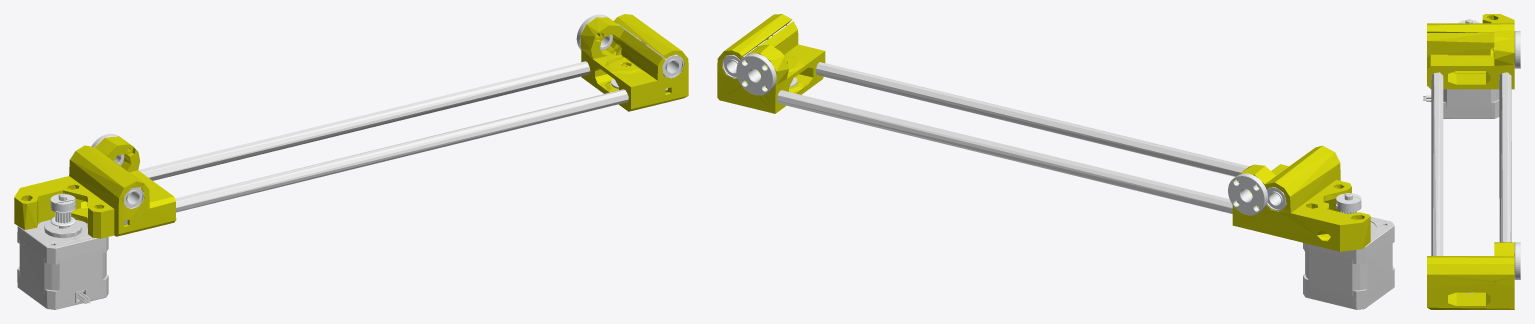
The model's file is prusamk3-z.dae.
The picture shows the model from 3 angles, left to right: view 1: azimuth 30°, elevation 25°; view 2: azimuth 150°, elevation 25°; view 3: azimuth 270°, elevation 25°; orthographic projection. The views are drawn at different scales.
Visible parts, largest first — view 1: Part__Feature062, Part__Feature063, Part__Feature073, Part__Feature065, Part__Feature064, Part__Feature074; view 2: Part__Feature062, Part__Feature064, Part__Feature065, Part__Feature073, Part__Feature063, Part__Feature077, Part__Feature078; view 3: Part__Feature062, Part__Feature063, Part__Feature065, Part__Feature064, Part__Feature073, Part__Feature078, Part__Feature077.
Boxes of the visible parts, <box> form: Part__Feature062: <box>14,136,176,238</box>; Part__Feature063: <box>580,14,688,111</box>; Part__Feature073: <box>17,193,108,309</box>; Part__Feature065: <box>124,88,667,225</box>; Part__Feature064: <box>138,61,590,180</box>; Part__Feature074: <box>50,194,75,226</box>; Part__Feature062: <box>1232,145,1370,251</box>; Part__Feature064: <box>777,90,1232,213</box>; Part__Feature065: <box>815,62,1248,176</box>; Part__Feature073: <box>1303,193,1394,309</box>; Part__Feature063: <box>717,14,825,113</box>; Part__Feature077: <box>1228,173,1267,215</box>; Part__Feature078: <box>736,53,776,95</box>; Part__Feature062: <box>1427,14,1514,89</box>; Part__Feature063: <box>1427,242,1514,309</box>; Part__Feature065: <box>1431,72,1443,255</box>; Part__Feature064: <box>1499,72,1511,242</box>; Part__Feature073: <box>1423,19,1499,118</box>; Part__Feature078: <box>1514,242,1520,279</box>; Part__Feature077: <box>1514,31,1520,68</box>.
Size of the model in its own units: 428 by 64.45 by 76.39.
